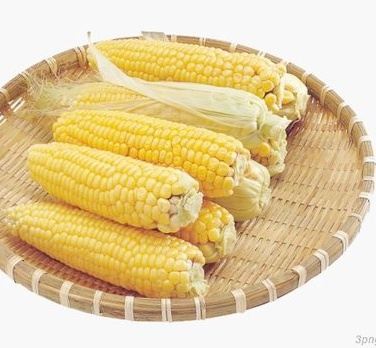corn: (4, 200, 207, 299), (51, 110, 252, 198), (23, 140, 205, 236), (91, 39, 284, 109)
